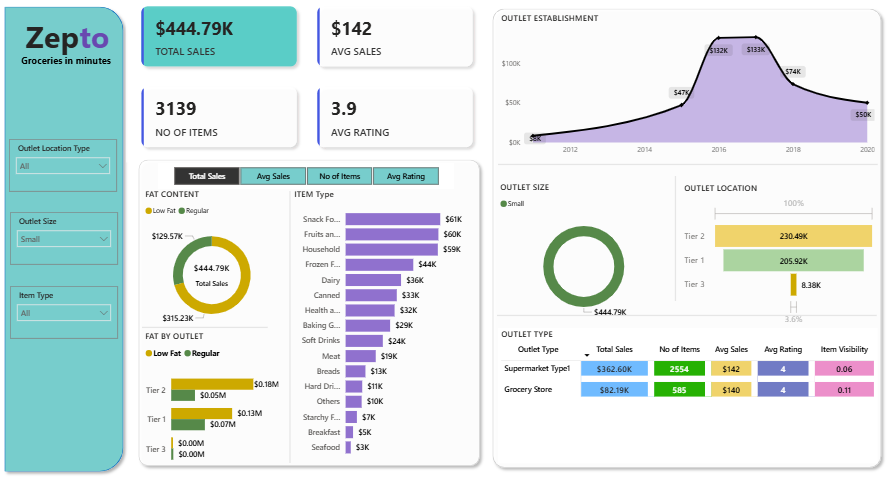

What the dashboard file says about the page in this screenshot:
{"tool":"powerbi","page":{"name":"Page 1","canvas":[1400,800],"ordinal":0},"visuals":[{"type":"shape","box":[0,15.6,204.7,750],"z":0},{"type":"textbox","box":[23.4,32.8,168.8,76.6],"z":1000},{"type":"textbox","box":[18.8,93.8,173.4,31.2],"z":2000},{"type":"cardVisual","fields":{"Data":["Zepto Grocery Data.Total Sales","Zepto Grocery Data.Avg Sales","Zepto Grocery Data.No of Items","Zepto Grocery Data.Avg Rating"]},"box":[200,0,570,270],"z":3000},{"type":"shape","box":[210.9,256.2,554.7,500],"z":4000},{"type":"donutChart","title":"FAT CONTENT","fields":{"Y":["Zepto Grocery Data.Total Sales"],"Category":["Zepto Grocery Data.Item Fat Content"]},"box":[225,310.9,220,230],"z":5000},{"type":"slicer","fields":{"Values":["Metrics.Metrics"]},"box":[250,270.3,465.6,40.6],"z":6000},{"type":"cardVisual","fields":{"Data":["Zepto Grocery Data.Total Sales"]},"box":[271.9,406.2,125,81.2],"z":7000},{"type":"clusteredBarChart","title":"FAT BY OUTLET","fields":{"Y":["Zepto Grocery Data.Total Sales"],"Category":["Zepto Grocery Data.Outlet Location Type"],"Series":["Zepto Grocery Data.Item Fat Content"]},"box":[225,534.4,220.3,229.7],"z":8000},{"type":"shape","box":[225,514.1,198.4,32.8],"z":9000},{"type":"shape","box":[451.6,315.6,12.5,428.1],"z":10000},{"type":"barChart","title":"ITEM Type","fields":{"Y":["Zepto Grocery Data.Total Sales"],"Category":["Zepto Grocery Data.Item Type"]},"box":[459.4,310.9,290.6,432.8],"z":11000},{"type":"shape","box":[768.8,18.8,629.7,740.6],"z":12000},{"type":"lineChart","title":"OUTLET ESTABLISHMENT","fields":{"Category":["Zepto Grocery Data.Outlet Establishment Year"],"Y":["Zepto Grocery Data.Total Sales"]},"box":[785.9,32.8,598.4,234.4],"z":13000},{"type":"shape","box":[785.9,260.9,598.4,23.4],"z":14000},{"type":"donutChart","title":"OUTLET SIZE ","fields":{"Y":["Zepto Grocery Data.Total Sales"],"Category":["Zepto Grocery Data.Outlet Size"]},"box":[784.4,298.4,273.4,225],"z":15000},{"type":"shape","box":[1056.2,290.6,17.2,196.9],"z":16000},{"type":"funnel","title":"OUTLET LOCATION","fields":{"Y":["Sum(Zepto Grocery Data.Sales)"],"Category":["Zepto Grocery Data.Outlet Location Type"]},"box":[1073.4,301,310.9,229.7],"z":17000},{"type":"shape","box":[784.4,498.4,598.4,23.4],"z":18000},{"type":"pivotTable","title":"OUTLET TYPE","fields":{"Rows":["Zepto Grocery Data.Outlet Type"],"Values":["Zepto Grocery Data.Total Sales","Zepto Grocery Data.No of Items","Zepto Grocery Data.Avg Sales","Zepto Grocery Data.Avg Rating","Avg(Zepto Grocery Data.Item Visibility)"]},"box":[785.9,531.2,598.4,212.5],"z":19000},{"type":"slicer","fields":{"Values":["Zepto Grocery Data.Outlet Location Type"]},"box":[15.6,232.8,170.3,82.8],"z":20000},{"type":"slicer","fields":{"Values":["Zepto Grocery Data.Outlet Size"]},"box":[17.2,348.4,170.3,82.8],"z":21000},{"type":"slicer","fields":{"Values":["Zepto Grocery Data.Item Type"]},"box":[17.2,464.1,170.3,82.8],"z":22000}]}

Visuals, with their boxes on the page's 1400x800 design canvas (x1, y1, x2, y2). These are canvas units, not pixel positions in the 887x479 screenshot, which may show the page scaled, cropped or inside an application window:
shape: rect(0, 16, 205, 766)
textbox: rect(23, 33, 192, 109)
textbox: rect(19, 94, 192, 125)
cardVisual - Zepto Grocery Data.Total Sales x Zepto Grocery Data.Avg Sales: rect(200, 0, 770, 270)
shape: rect(211, 256, 766, 756)
"FAT CONTENT" donutChart: rect(225, 311, 445, 541)
slicer - Metrics.Metrics: rect(250, 270, 716, 311)
cardVisual - Zepto Grocery Data.Total Sales: rect(272, 406, 397, 487)
"FAT BY OUTLET" clusteredBarChart: rect(225, 534, 445, 764)
shape: rect(225, 514, 423, 547)
shape: rect(452, 316, 464, 744)
"ITEM Type" barChart: rect(459, 311, 750, 744)
shape: rect(769, 19, 1398, 759)
"OUTLET ESTABLISHMENT" lineChart: rect(786, 33, 1384, 267)
shape: rect(786, 261, 1384, 284)
"OUTLET SIZE " donutChart: rect(784, 298, 1058, 523)
shape: rect(1056, 291, 1073, 488)
"OUTLET LOCATION" funnel: rect(1073, 301, 1384, 531)
shape: rect(784, 498, 1383, 522)
"OUTLET TYPE" pivotTable: rect(786, 531, 1384, 744)
slicer - Zepto Grocery Data.Outlet Location Type: rect(16, 233, 186, 316)
slicer - Zepto Grocery Data.Outlet Size: rect(17, 348, 188, 431)
slicer - Zepto Grocery Data.Item Type: rect(17, 464, 188, 547)
